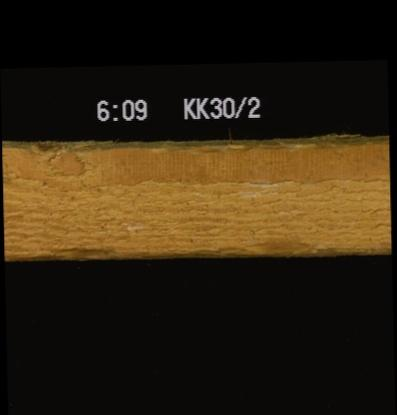edge_knot: (27, 139, 63, 153)
wave: (43, 244, 338, 257)
